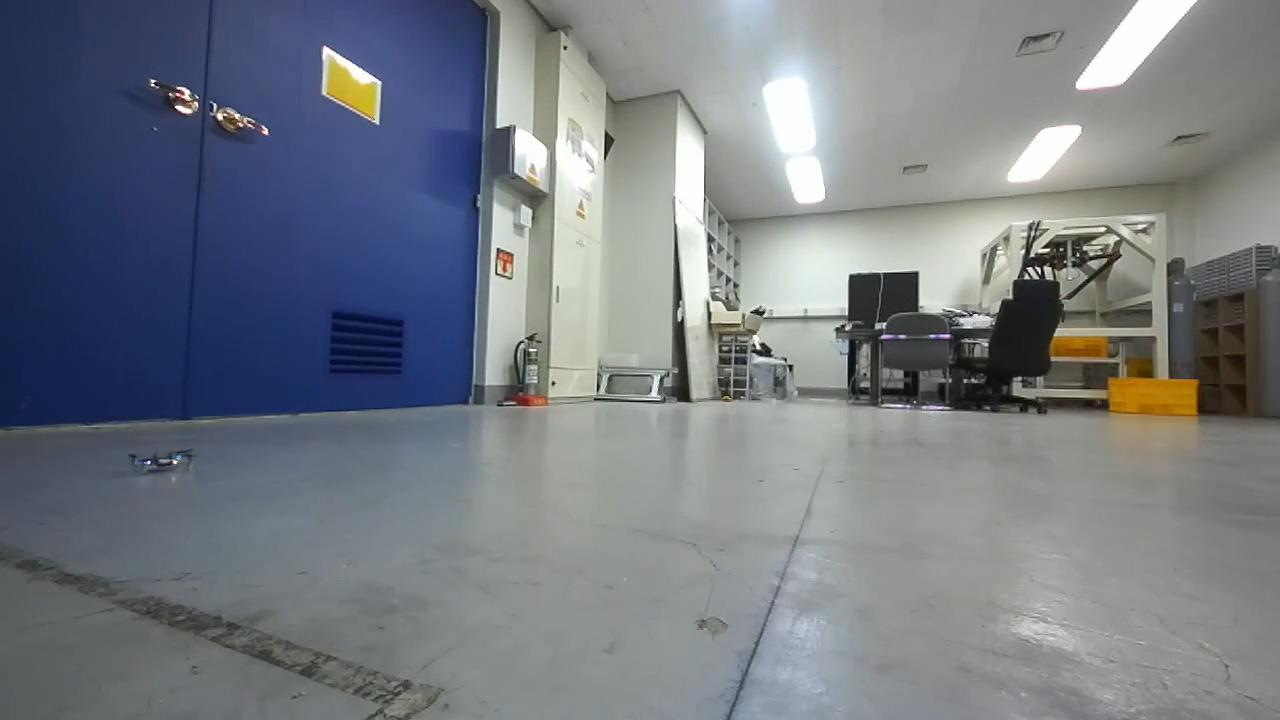crazyflie: (128, 444, 196, 477)
